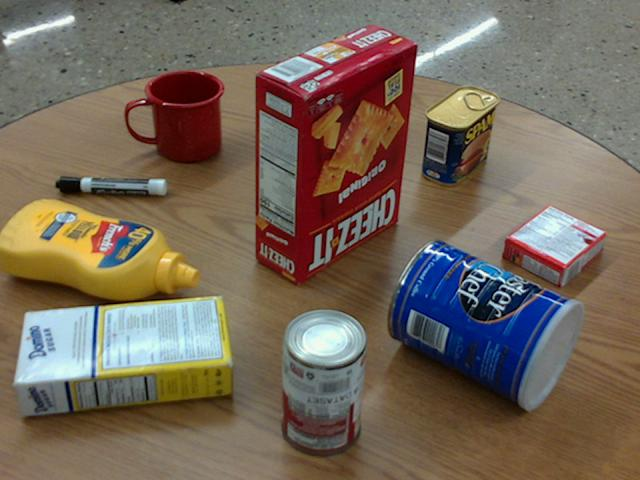cracker_box: (253, 22, 418, 284)
gelatin_box: (502, 203, 606, 285)
large_marker: (57, 176, 166, 194)
master_chef_can: (389, 238, 586, 409)
mug: (126, 70, 224, 163)
mustard_bottle: (0, 198, 199, 300)
potted_meat_can: (423, 85, 499, 186)
sugar_box: (13, 295, 231, 414)
tomato_soup_can: (284, 307, 369, 454)
tuna_fish_can: (300, 75, 367, 148)
